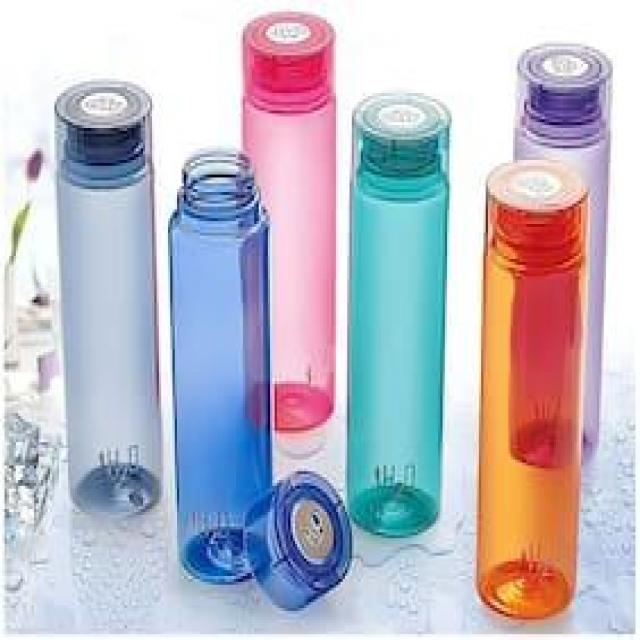plastic_bottle: (171, 145, 360, 605), (43, 81, 168, 523), (473, 154, 587, 634), (508, 30, 622, 472), (343, 93, 449, 544), (243, 7, 338, 437)
